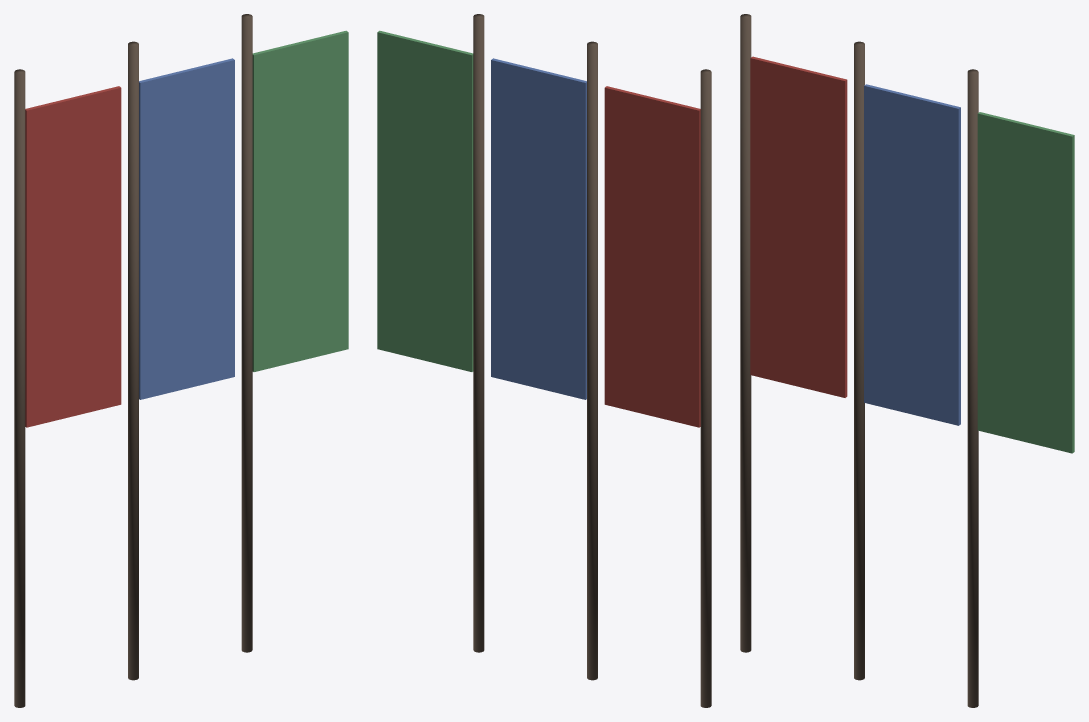
Rendered from prop_nobori3.glb.
The picture shows the model from 3 angles, left to right: view 1: azimuth 30°, elevation 25°; view 2: azimuth 150°, elevation 25°; view 3: azimuth 330°, elevation 25°; orthographic projection.
Visible parts, largest first — view 1: nobori3; view 2: nobori3; view 3: nobori3.
Part boxes in pixels (x1,y1,x2,y2): nobori3: [14, 14, 348, 707]; nobori3: [377, 14, 711, 707]; nobori3: [740, 14, 1074, 707].
Bounding box in the file's own units: 1.76 × 3.2 × 0.05.
